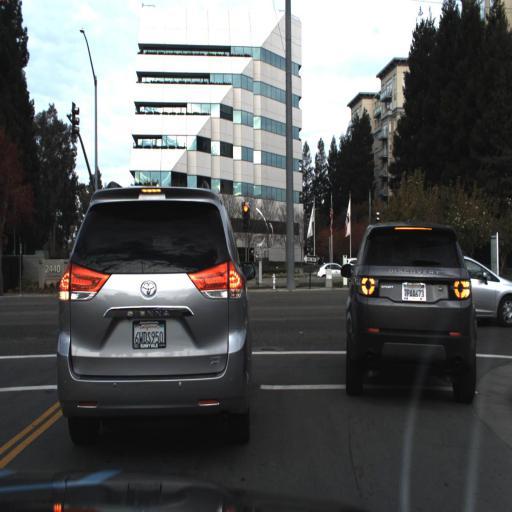car: (58, 179, 262, 449), (330, 202, 476, 404), (414, 252, 512, 329), (318, 263, 355, 285)
trafficLight: (238, 196, 252, 233)
trafficLight-Red: (237, 184, 256, 244)
